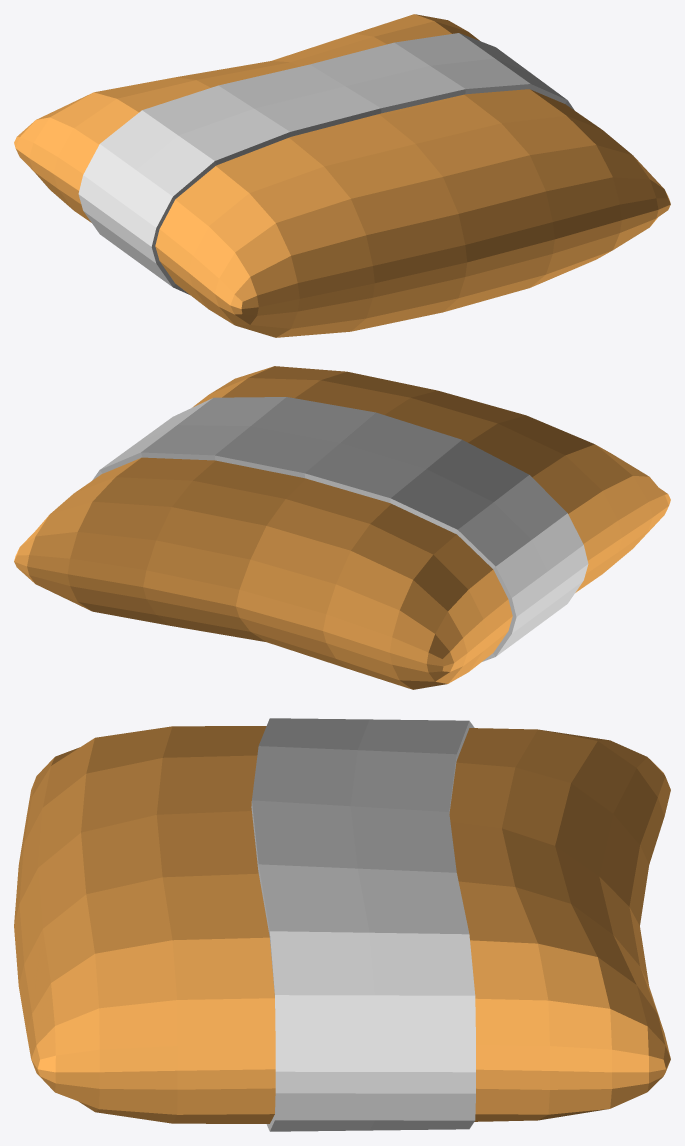
File: Pillow 5.fbx
3 views of the same model, one above another, from view 1: azimuth 30°, elevation 25°; view 2: azimuth 150°, elevation 25°; view 3: azimuth 270°, elevation 25° (orthographic). The views are drawn at different scales.
Parts seen in each view (by area): view 1: Node 0; view 2: Node 0; view 3: Node 0.
Boxes of the visible parts, x1,y1,x2,y2 form: Node 0: (14,14,670,337); Node 0: (14,366,670,689); Node 0: (14,718,670,1131).
Bounding box in the file's own units: 0.6291 × 0.266 × 0.6701.
